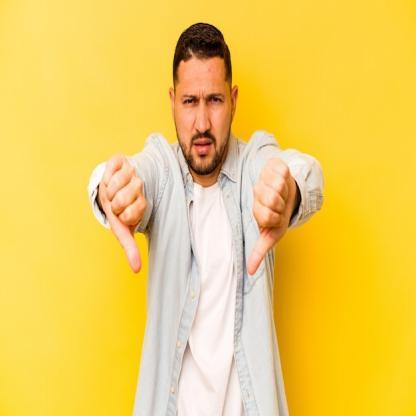thumb_down: (97, 152, 150, 274), (245, 154, 297, 278)
